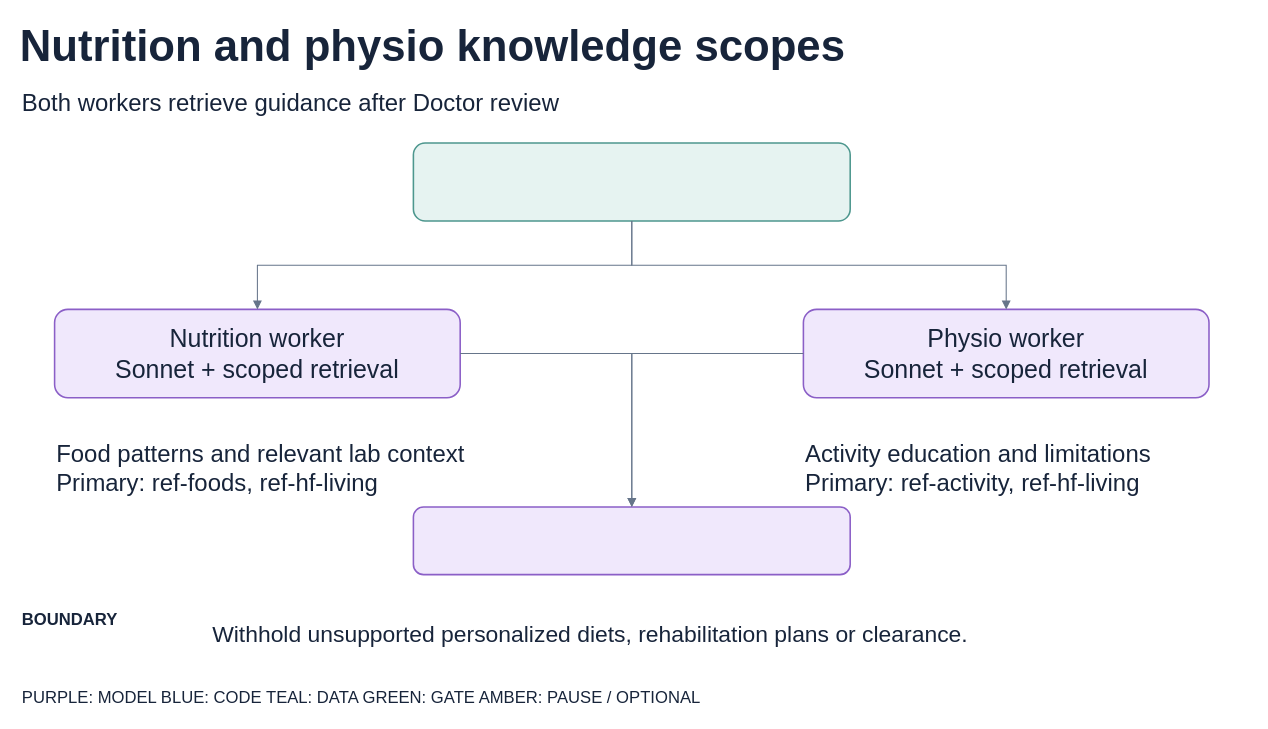
The diagram is 1268 pixels wide and 729 high, and some of its shapes have lost their labels. Here are the shapes that lost their labels. From the top down, the box of each, then its label:
(412, 142, 851, 221): Reviewed findings + restrictions Pinned review / corpus version
(412, 506, 851, 575): Sonnet guidance support check
